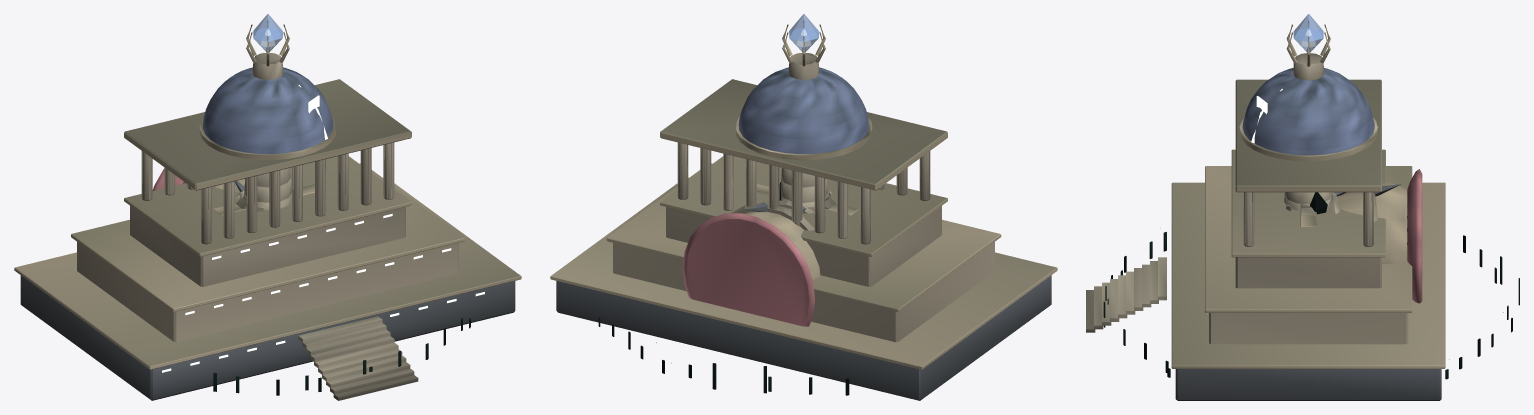
The model's file is drowned_temple_kit.glb.
3 views of the same model, side by side, from view 1: azimuth 30°, elevation 25°; view 2: azimuth 150°, elevation 25°; view 3: azimuth 270°, elevation 25° (orthographic).
Parts seen in each view (by area): view 1: Kit_SunkenTemple, Kit_PrismTower; view 2: Kit_SunkenTemple, Kit_GreatConch, Kit_PrismTower; view 3: Kit_SunkenTemple, Kit_GreatConch, Kit_PrismTower.
Part boxes in pixels (x1,y1,x2,y2): Kit_SunkenTemple: (14, 67, 521, 400); Kit_PrismTower: (239, 14, 292, 211); Kit_SunkenTemple: (550, 67, 1057, 400); Kit_GreatConch: (682, 200, 820, 326); Kit_PrismTower: (780, 14, 832, 211); Kit_SunkenTemple: (1086, 68, 1519, 400); Kit_GreatConch: (1329, 169, 1422, 303); Kit_PrismTower: (1284, 14, 1332, 211).
Bounding box in the file's own units: 65.2 × 49.92 × 65.27.
